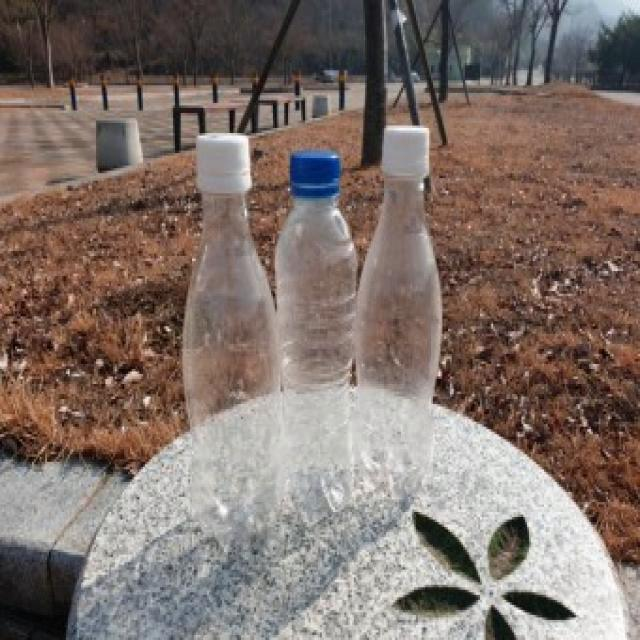bottle: (183, 133, 274, 540), (275, 153, 360, 525), (358, 126, 441, 502)
